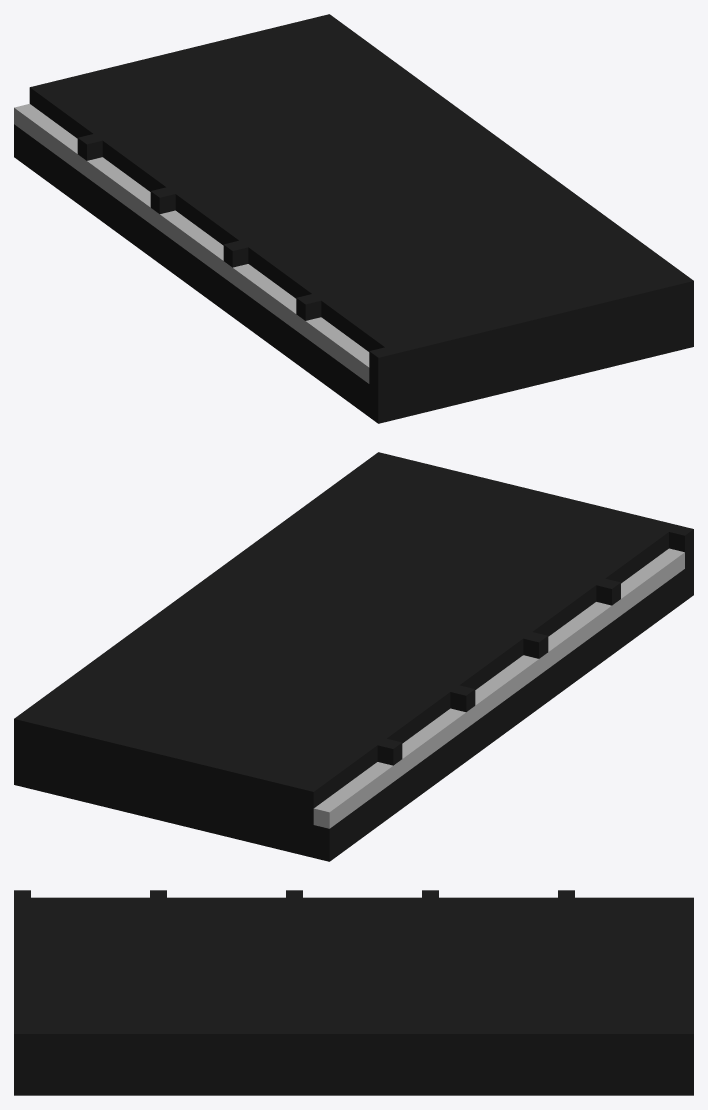
Rendered from RoadSegmentRight.obj.
3 views of the same model, one above another, from view 1: azimuth 30°, elevation 25°; view 2: azimuth 150°, elevation 25°; view 3: azimuth 270°, elevation 25° (orthographic). The views are drawn at different scales.
Visible parts, largest first — view 1: RoadSegmentRight; view 2: RoadSegmentRight; view 3: RoadSegmentRight.
Part boxes in pixels (x1,y1,x2,y2): RoadSegmentRight: (14, 14, 693, 423); RoadSegmentRight: (14, 452, 693, 861); RoadSegmentRight: (14, 890, 693, 1095).
Size of the model in its own units: 20 by 4 by 40.
Materials: 1 (1 with a texture image).
